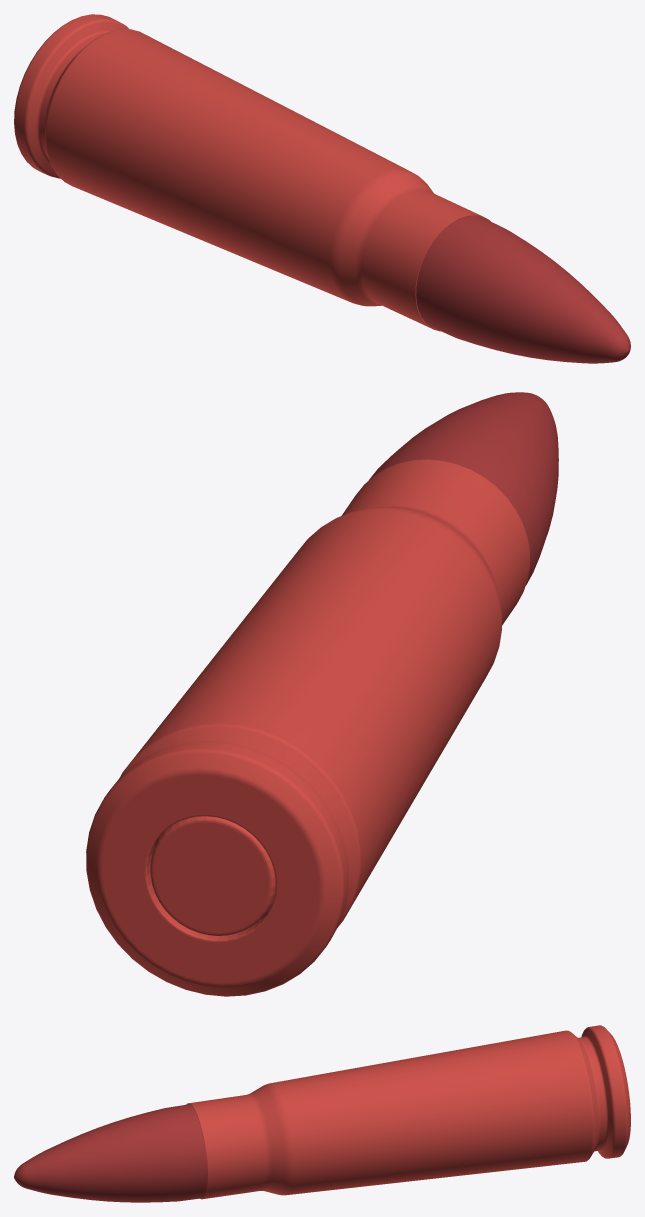
File: BULLETFBX.fbx
The picture shows the model from 3 angles, top to bottom: view 1: azimuth 30°, elevation 25°; view 2: azimuth 150°, elevation 25°; view 3: azimuth 270°, elevation 25°; orthographic projection. The views are drawn at different scales.
Visible parts, largest first — view 1: Line062, Line061; view 2: Line062, Line061; view 3: Line062, Line061.
Part boxes in pixels (bbox=[...]): Line062: bbox=[14, 14, 490, 331]; Line061: bbox=[416, 216, 630, 363]; Line062: bbox=[86, 459, 529, 996]; Line061: bbox=[368, 392, 558, 585]; Line062: bbox=[186, 1025, 630, 1199]; Line061: bbox=[14, 1104, 207, 1202].
Bounding box in the file's own units: 8.25 × 4.7 × 21.5.
